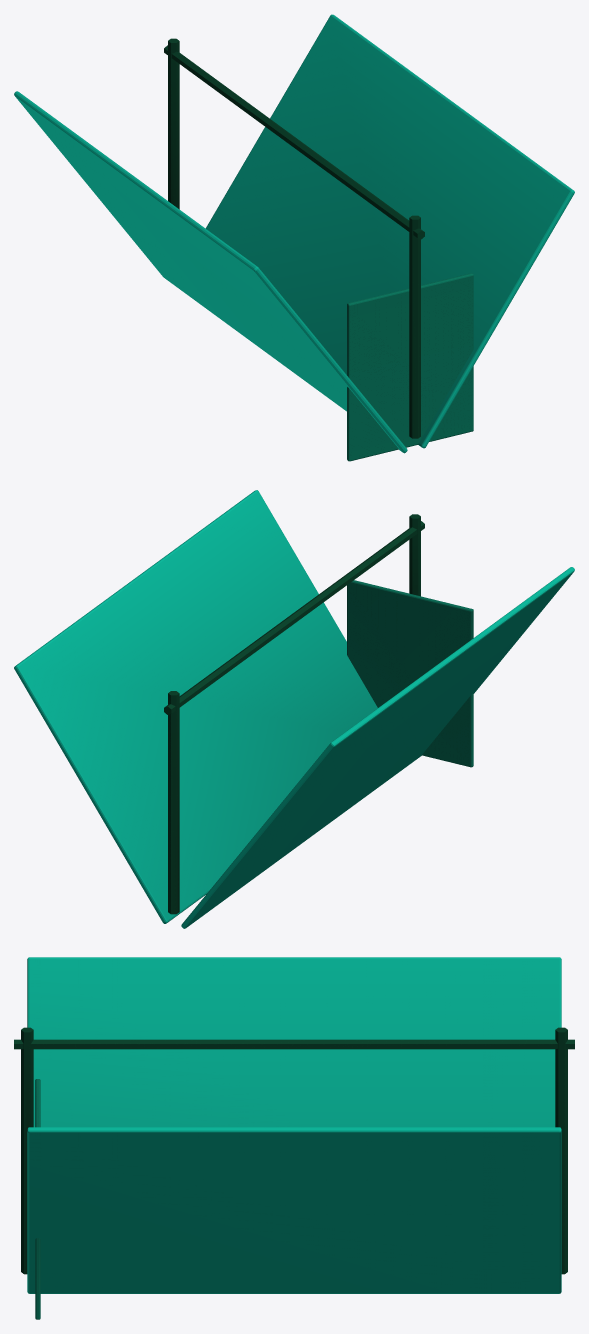
File: prop_tent.glb
The picture shows the model from 3 angles, top to bottom: view 1: azimuth 30°, elevation 25°; view 2: azimuth 150°, elevation 25°; view 3: azimuth 270°, elevation 25°; orthographic projection. The views are drawn at different scales.
Parts seen in each view (by area): view 1: prop_tent; view 2: prop_tent; view 3: prop_tent.
Part boxes in pixels (box(x1,y1,x2,y2)): prop_tent: box(14, 14, 574, 461); prop_tent: box(14, 490, 574, 928); prop_tent: box(14, 957, 574, 1319).
Bounding box in the file's own units: 0.7671 × 0.534 × 1.05.
Materials: 1 (1 with a texture image).
